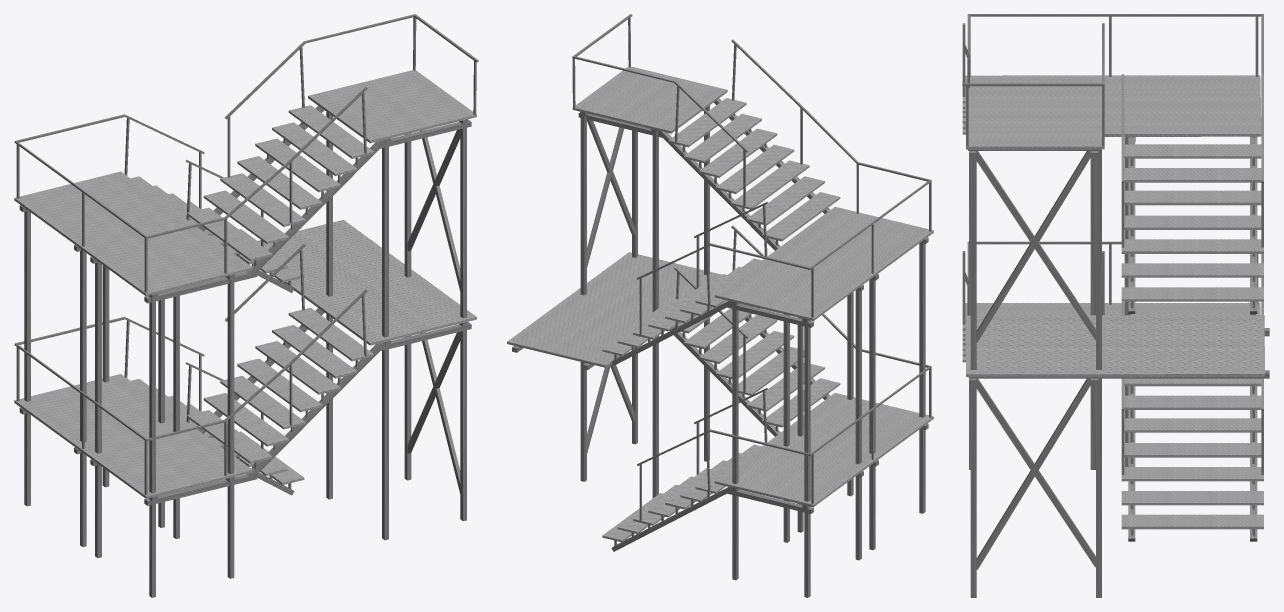
The model's file is tizi.fbx.
The picture shows the model from 3 angles, left to right: view 1: azimuth 30°, elevation 25°; view 2: azimuth 150°, elevation 25°; view 3: azimuth 270°, elevation 25°; orthographic projection. The views are drawn at different scales.
Visible parts, largest first — view 1: 对象001, Mesh Object; view 2: 对象001, Mesh Object; view 3: 对象001, Mesh Object.
Part boxes in pixels (box(x1,y1,x2,y2)): 对象001: box(14, 70, 476, 498); Mesh Object: box(14, 14, 478, 597); 对象001: box(507, 66, 933, 542); Mesh Object: box(512, 14, 931, 597); 对象001: box(962, 75, 1264, 529); Mesh Object: box(962, 14, 1269, 597).
Bounding box in the file's own units: 38.12 × 50.7 × 27.18.
Materials: 2 (2 with a texture image).
